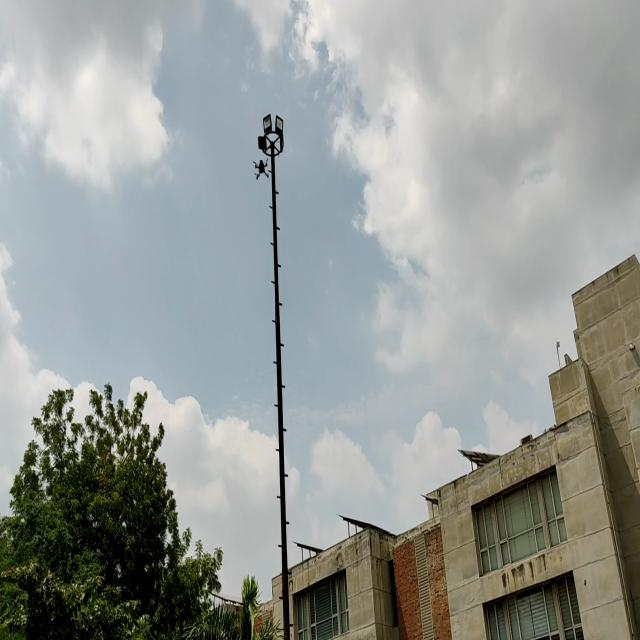drone: (248, 158, 272, 183)
